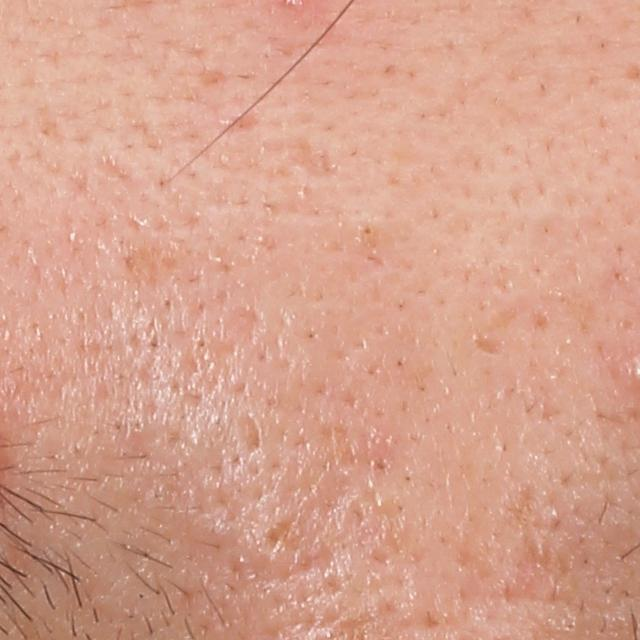atrophic_scar: (477, 484, 580, 634), (267, 136, 346, 187), (220, 302, 273, 364), (230, 407, 268, 463), (263, 517, 295, 552), (472, 333, 507, 357)
comedo: (358, 217, 382, 241)
